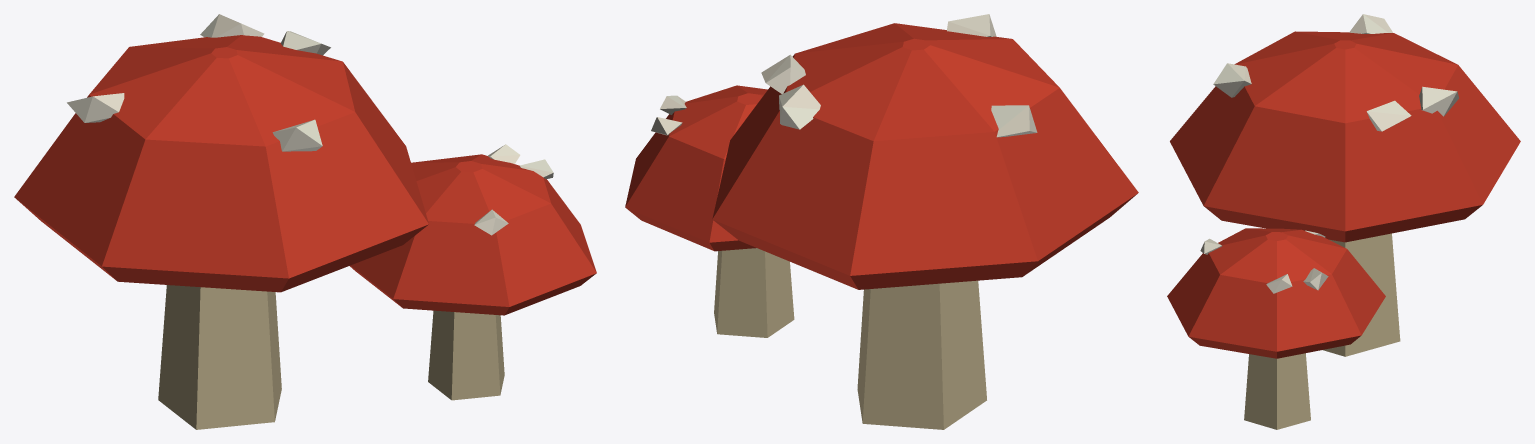
The model's file is mushroom__a.glb.
3 renders of one model, left to right at view 1: azimuth 30°, elevation 25°; view 2: azimuth 150°, elevation 25°; view 3: azimuth 270°, elevation 25°, orthographic. The views are drawn at different scales.
Visible parts, largest first — view 1: cap, cap.001, stem, stem.001, dot.001, dot.002, dot, dot.003; view 2: cap, stem, cap.001, stem.001, dot, dot.001, dot.003, dot.002; view 3: cap, cap.001, stem.001, stem, dot, dot.002, dot.003, dot.001.
Boxes of the visible parts, box(x1,y1,x2,y2) form: cap: box(14, 35, 428, 292); cap.001: box(350, 154, 596, 315); stem: box(158, 285, 281, 429); stem.001: box(428, 310, 504, 400); dot.001: box(67, 93, 124, 122); dot.002: box(272, 119, 322, 151); dot: box(200, 14, 264, 37); dot.003: box(281, 31, 330, 55); cap: box(712, 23, 1138, 289); stem: box(857, 280, 986, 429); cap.001: box(625, 85, 767, 251); stem.001: box(714, 248, 794, 337); dot: box(779, 84, 820, 129); dot.001: box(991, 105, 1037, 137); dot.003: box(761, 54, 805, 93); dot.002: box(947, 14, 996, 36); cap: box(1170, 31, 1520, 242); cap.001: box(1167, 228, 1385, 358); stem.001: box(1244, 353, 1310, 429); stem: box(1323, 233, 1400, 356); dot: box(1419, 86, 1458, 116); dot.002: box(1213, 63, 1251, 97); dot.003: box(1366, 100, 1411, 131); dot.001: box(1349, 14, 1392, 33).
Bounding box in the file's own units: 0.3689 × 0.2545 × 0.2824.
